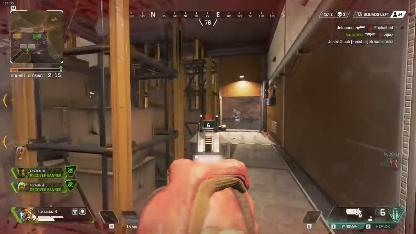Target: (232, 106, 242, 127)
